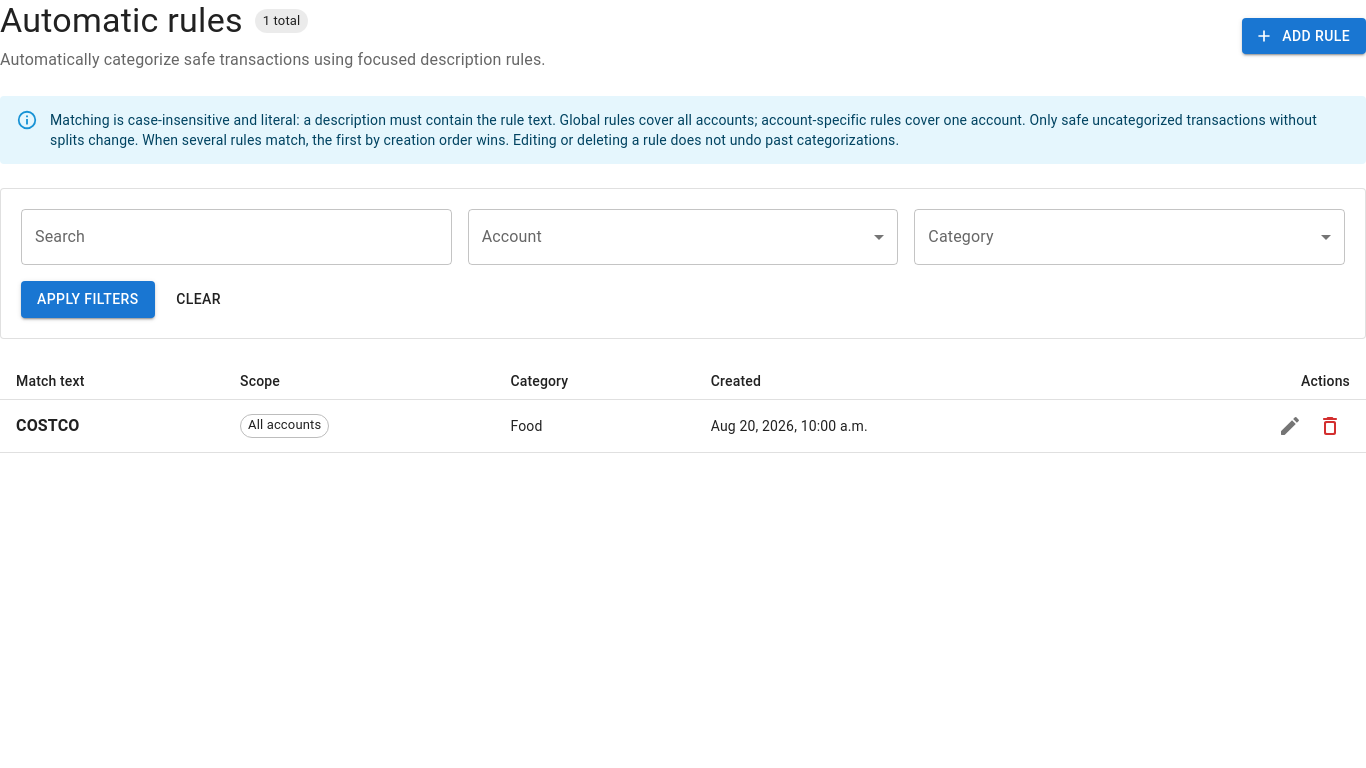
Scenario: rules view › keeps a failed deletion and its row visible
Click the button named "Delete rule COSTCO" at [1330, 426], box top-left (1310, 406), bottom-right (1350, 446)
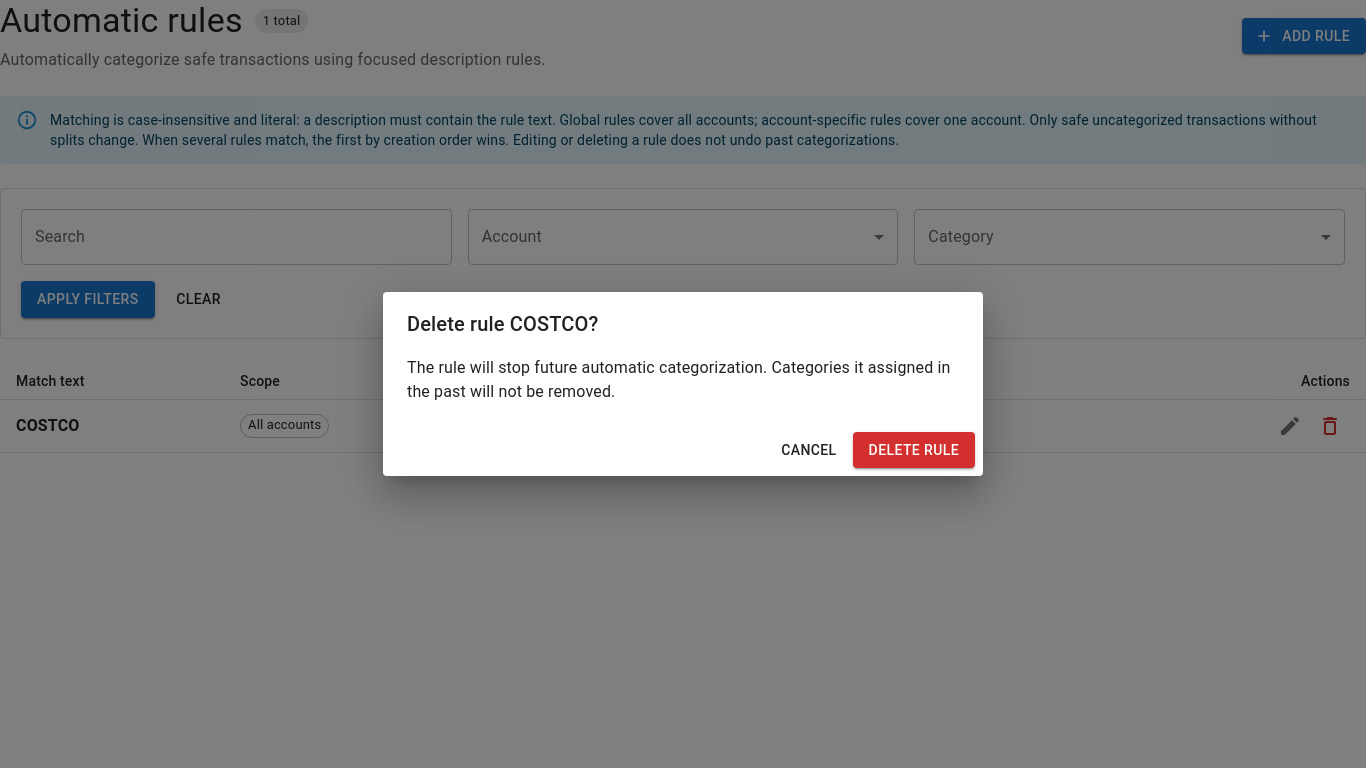
Click the button "Delete rule" at [914, 450], box top-left (853, 432), bottom-right (975, 468)
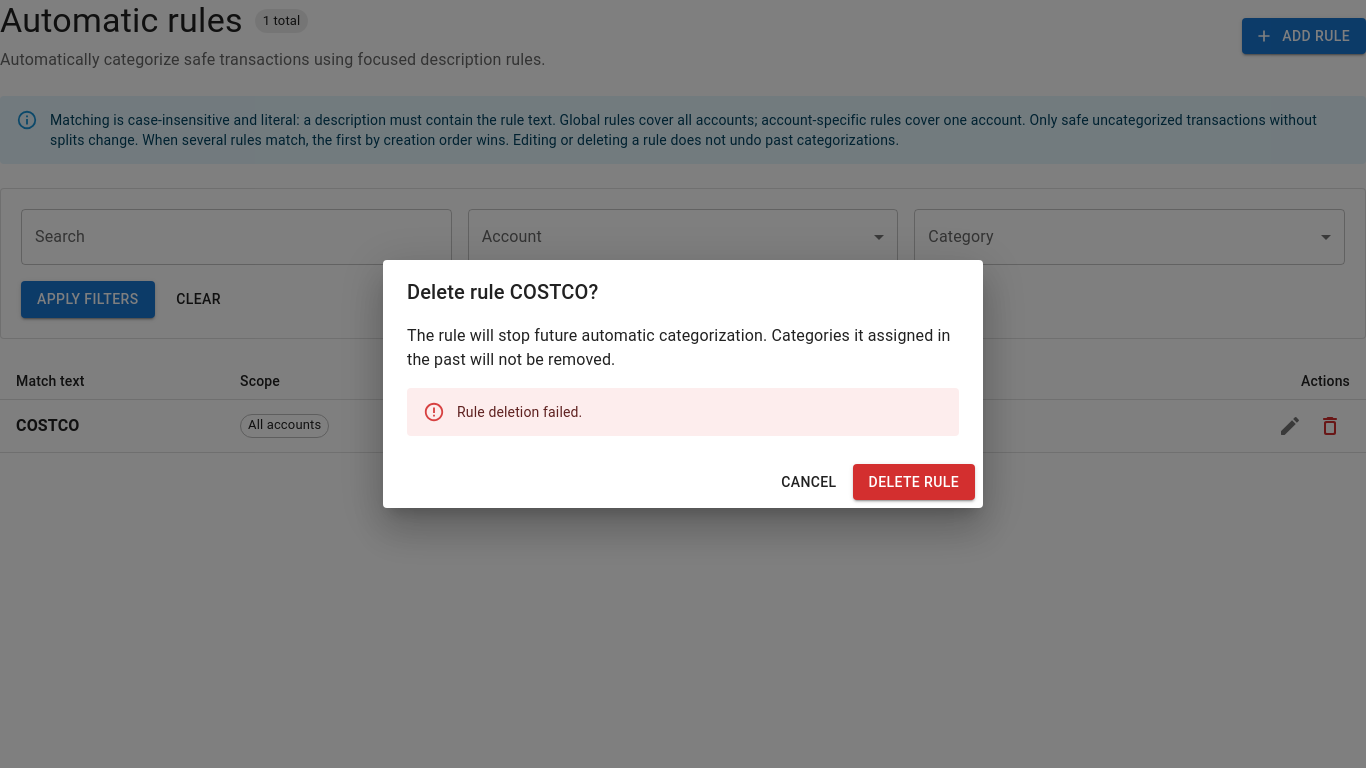
expect the text "COSTCO" is shown: met, box top-left (16, 416), bottom-right (80, 434)
expect the dialog is shown: met, box top-left (383, 260), bottom-right (983, 508)
expect the text "Rule deletion failed." is shown: met, box top-left (457, 404), bottom-right (582, 420)
